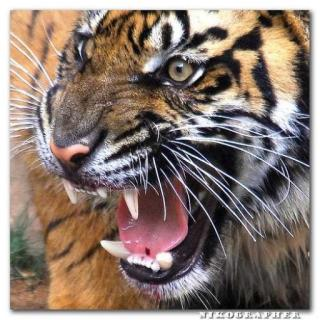Tiger: (6, 2, 308, 312)
